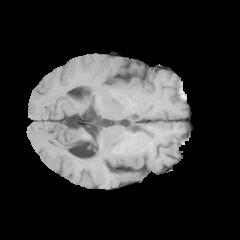glioma: (79, 126, 157, 177)
